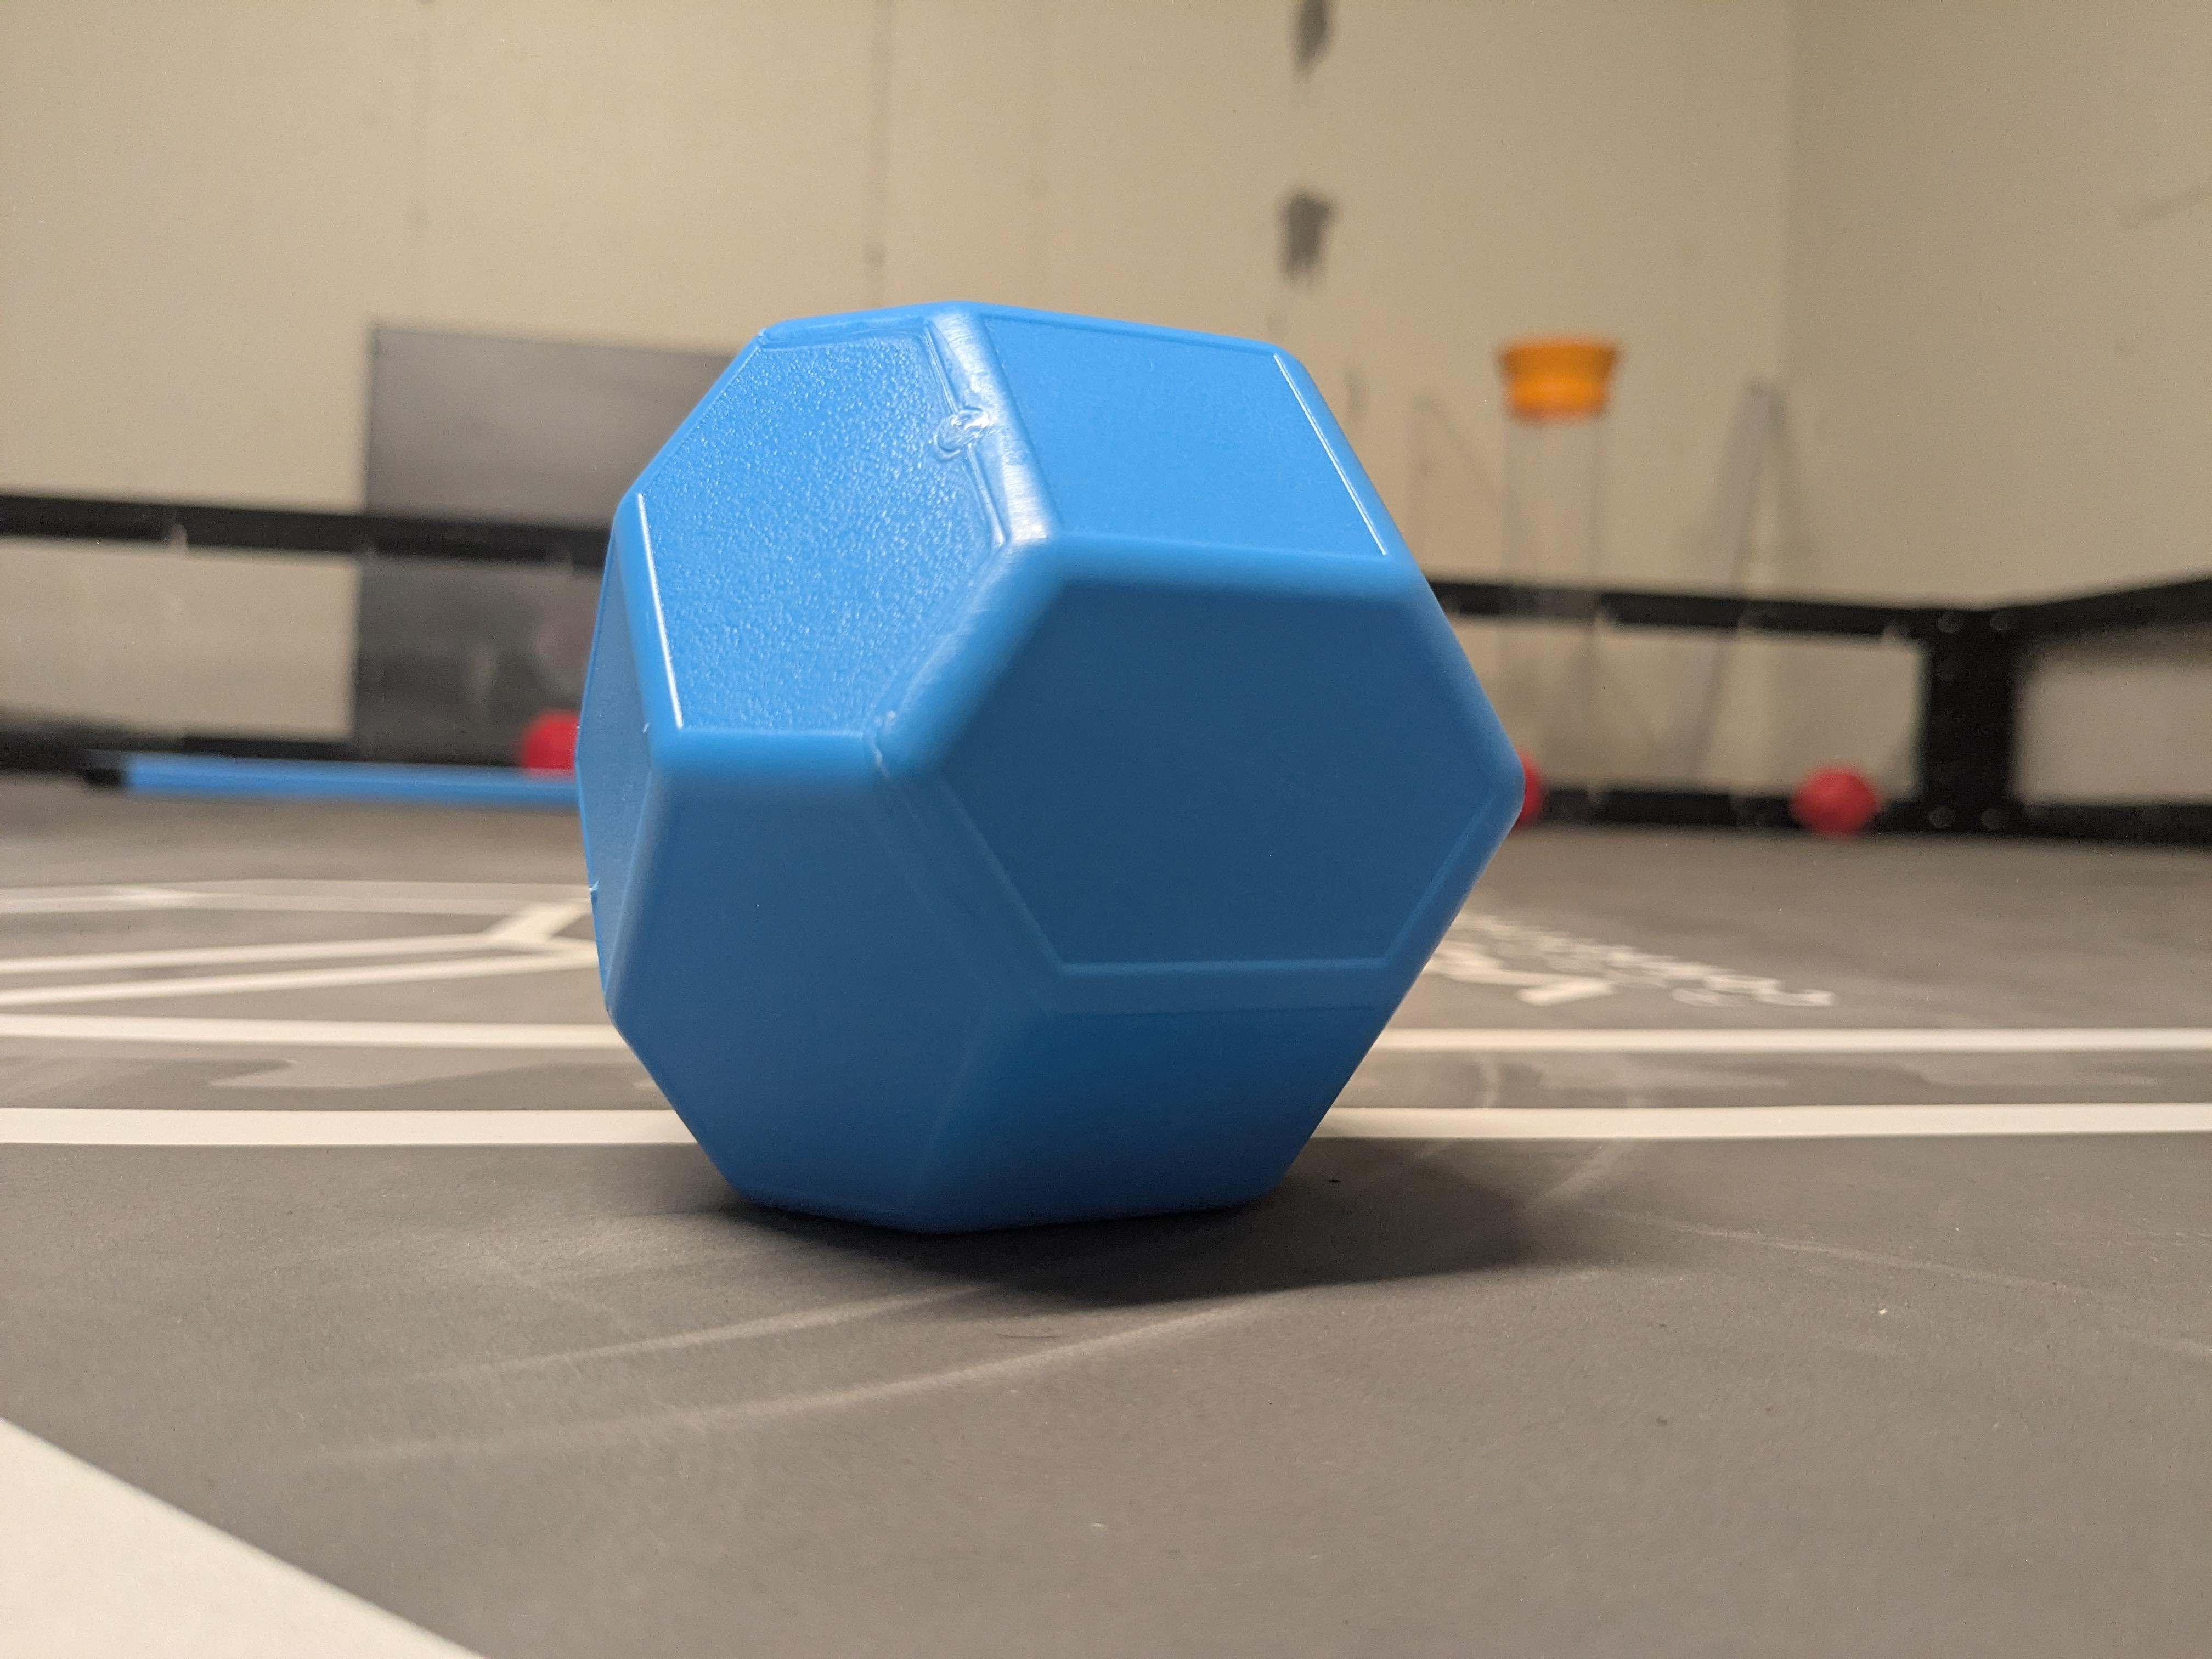Vex-Pieces-BLUE: (590, 301, 1503, 1244)
